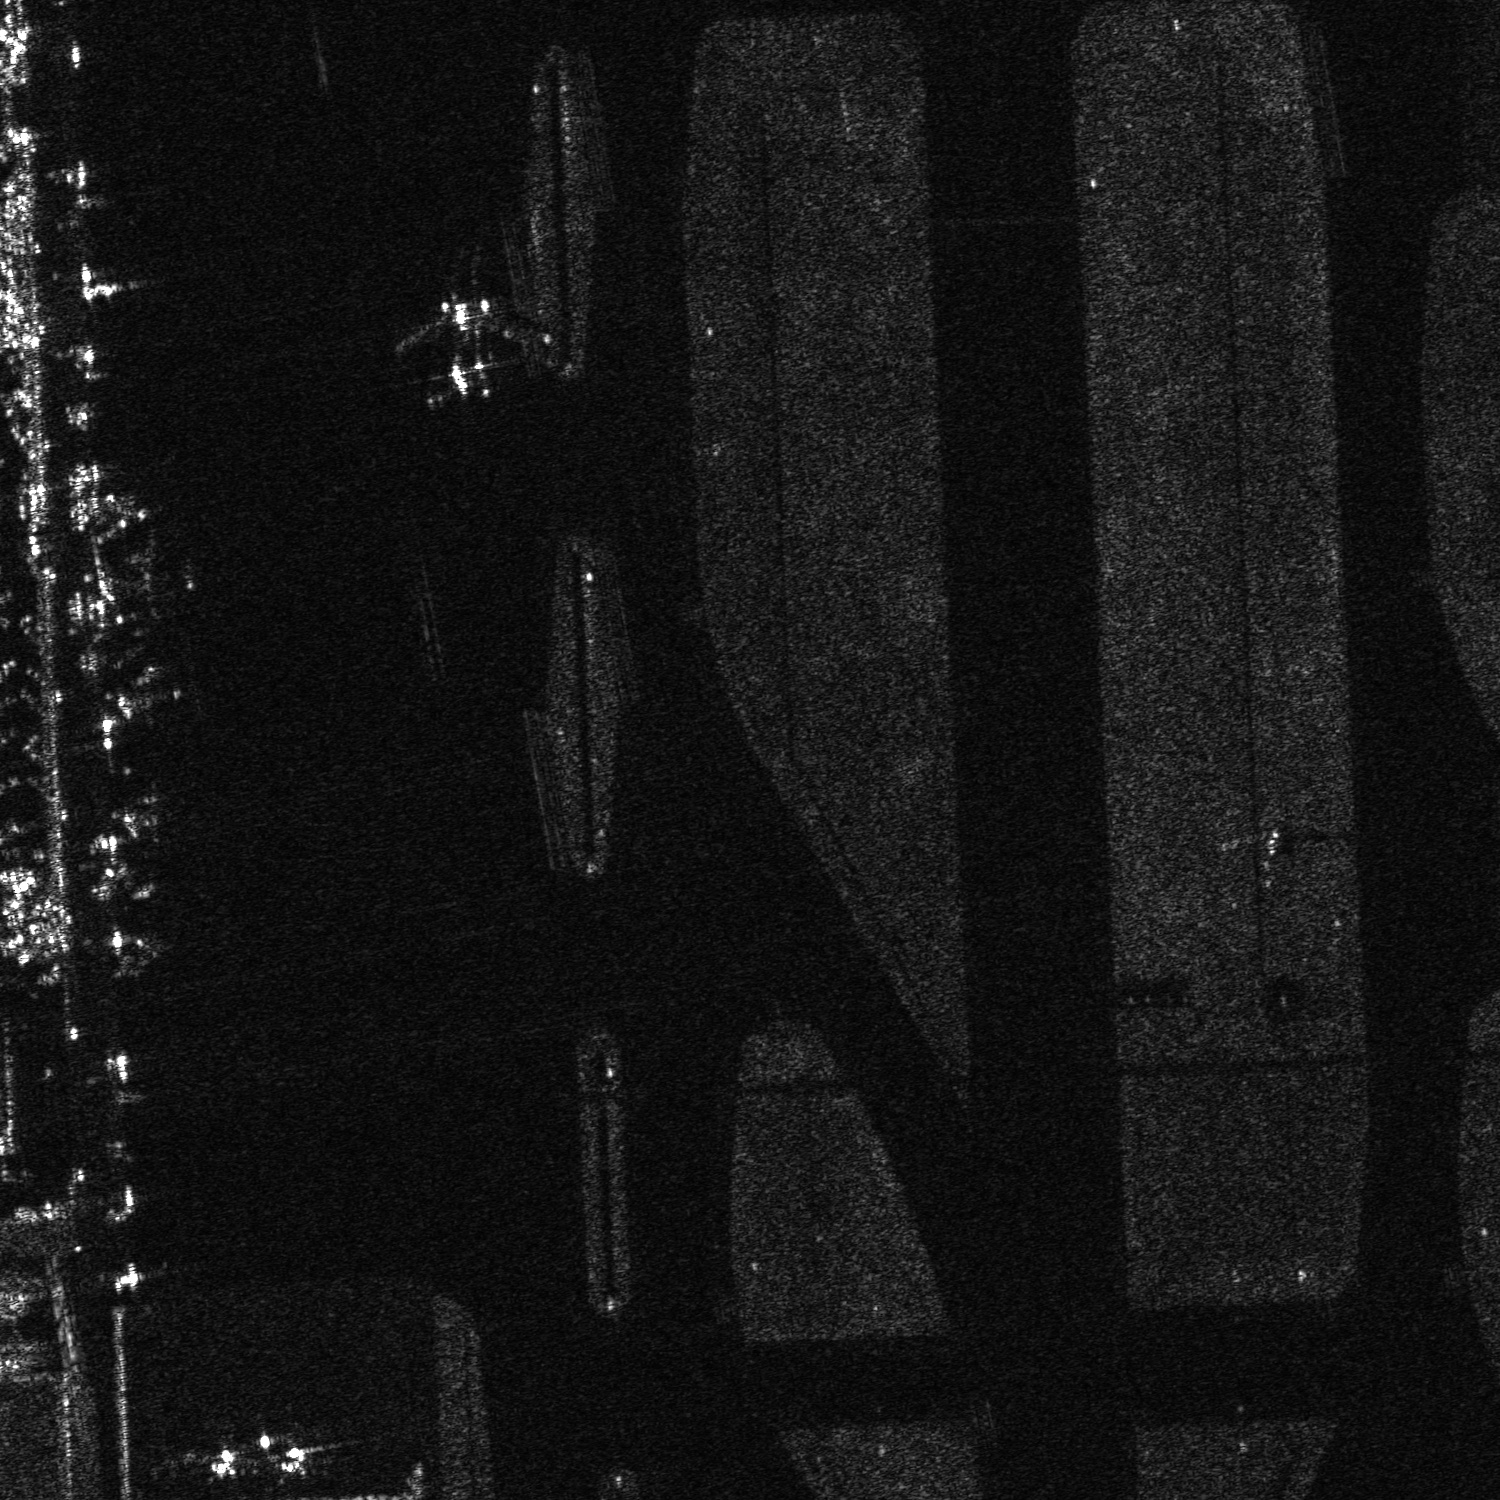A220: (95, 536, 202, 624)
ARJ21: (192, 1429, 257, 1486)
other: (387, 273, 523, 408), (98, 655, 190, 723), (107, 777, 190, 843), (262, 1431, 332, 1484)
